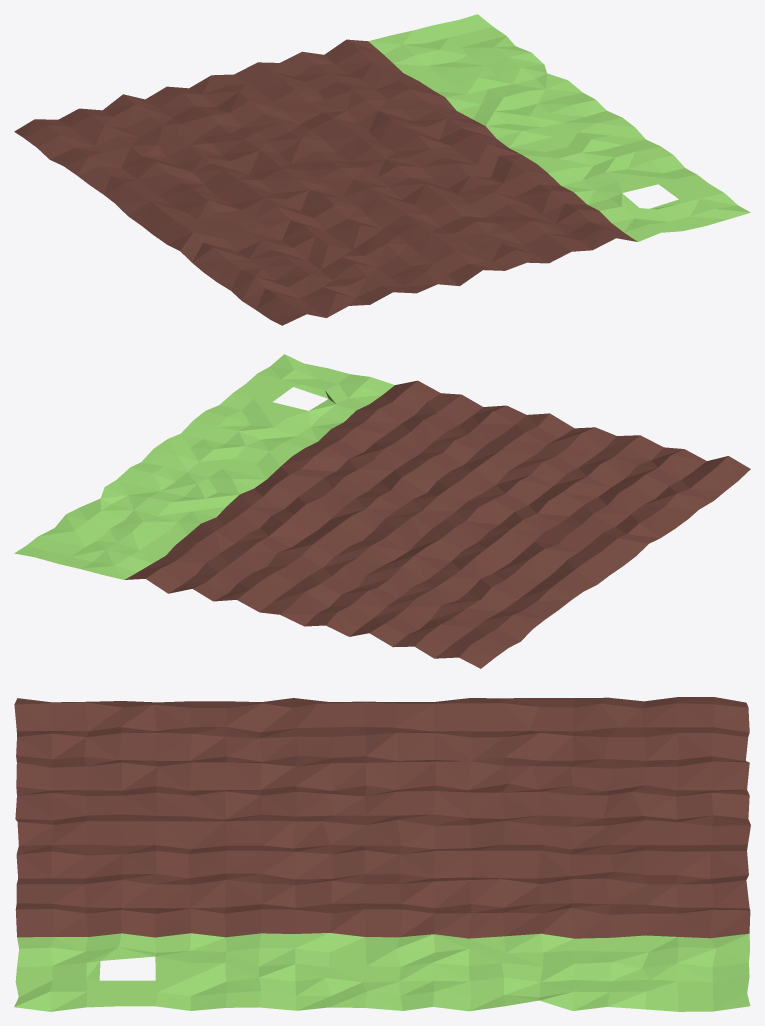
File: agri-biome-top.glb
3 views of the same model, one above another, from view 1: azimuth 30°, elevation 25°; view 2: azimuth 150°, elevation 25°; view 3: azimuth 270°, elevation 25° (orthographic). The views are drawn at different scales.
Parts seen in each view (by area): view 1: SOIL-TOP; view 2: SOIL-TOP; view 3: SOIL-TOP.
Boxes of the visible parts, x1,y1,x2,y2 form: SOIL-TOP: (14, 14, 750, 325); SOIL-TOP: (14, 354, 750, 668); SOIL-TOP: (14, 697, 750, 1011).
Size of the model in its own units: 2.01 by 0.0395 by 2.02.
